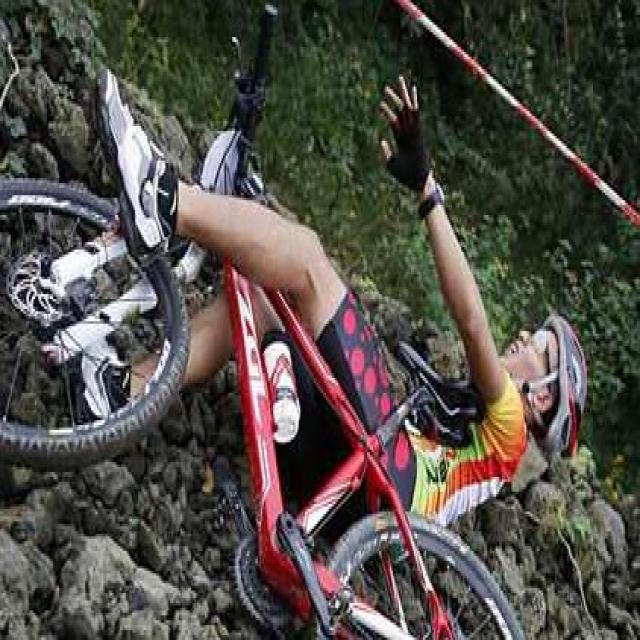fall: (95, 79, 587, 507)
